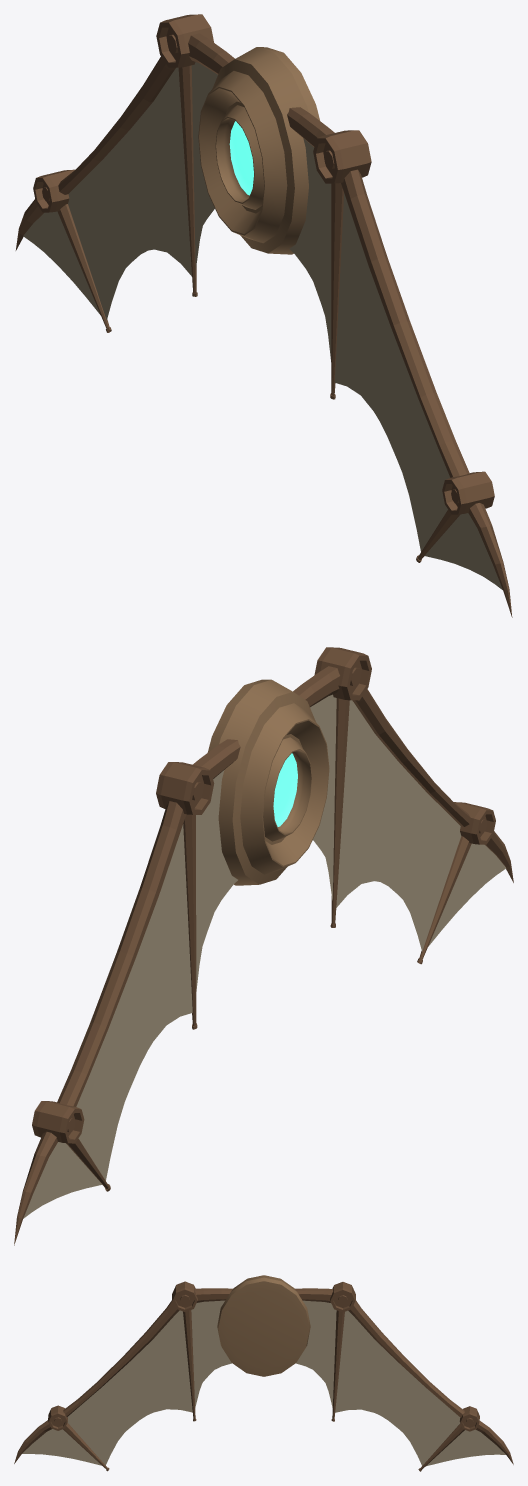
The model's file is ReactorWings_Tpose_04.fbx.
3 views of the same model, one above another, from view 1: azimuth 30°, elevation 25°; view 2: azimuth 150°, elevation 25°; view 3: azimuth 270°, elevation 25° (orthographic). The views are drawn at different scales.
Visible parts, largest first — view 1: P_Armature_01.001, P_Armature_01, P_Reactor_01; view 2: P_Armature_01, P_Armature_01.001, P_Reactor_01; view 3: P_Armature_01, P_Armature_01.001, P_Reactor_01.
Boxes of the visible parts, left/top/right/bottom form: P_Armature_01.001: left=287, top=107, right=512, bottom=617; P_Armature_01: left=15, top=14, right=234, bottom=332; P_Reactor_01: left=198, top=47, right=319, bottom=254; P_Armature_01: left=14, top=739, right=240, bottom=1245; P_Armature_01.001: left=293, top=647, right=513, bottom=964; P_Reactor_01: left=207, top=679, right=329, bottom=885; P_Armature_01: left=294, top=1282, right=513, bottom=1471; P_Armature_01.001: left=14, top=1281, right=233, bottom=1471; P_Reactor_01: left=217, top=1275, right=310, bottom=1376.
Size of the model in its own units: 10.82 by 75.03 by 173.
